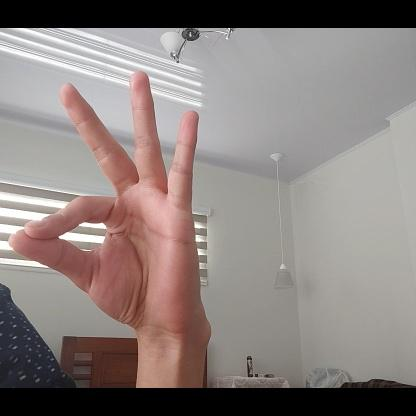F: (5, 71, 209, 327)
